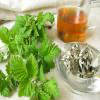Raspberry leaf: (11, 54, 30, 81), (43, 76, 60, 100), (17, 77, 36, 98), (44, 42, 61, 61), (27, 53, 38, 76), (0, 26, 12, 45), (39, 38, 50, 55), (7, 42, 20, 55), (10, 27, 19, 41)
